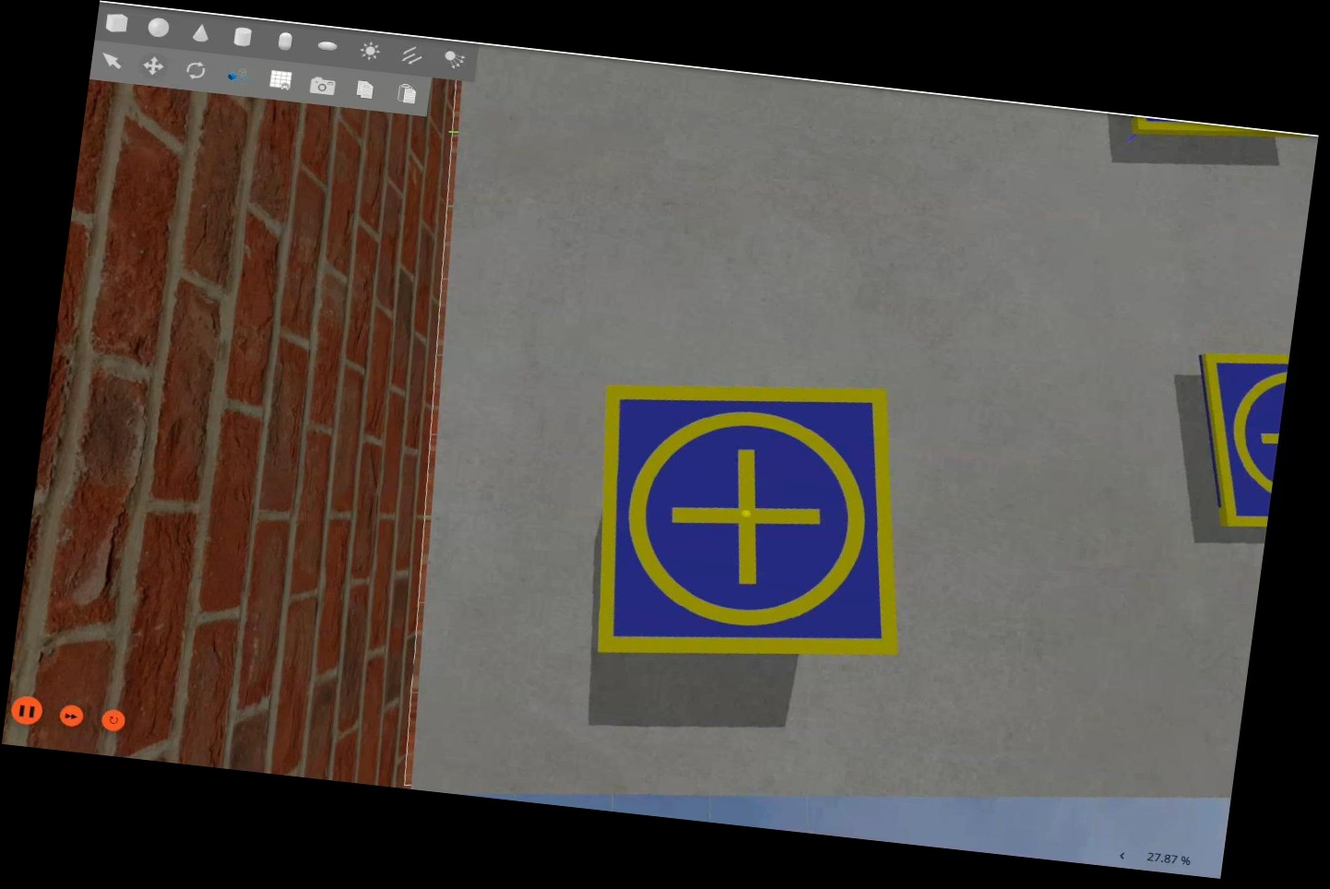small_base: (564, 362, 936, 692), (1176, 341, 1289, 539)
